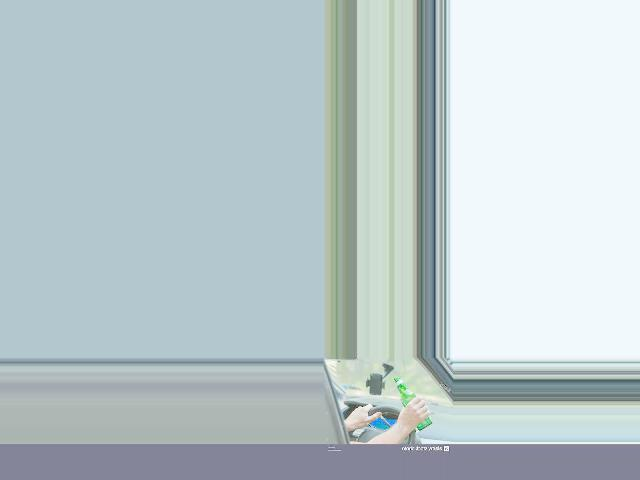beer: (393, 377, 430, 431)
